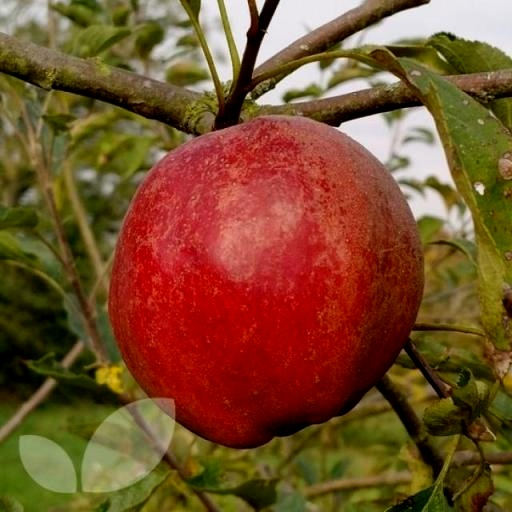fruit: (109, 116, 423, 447)
